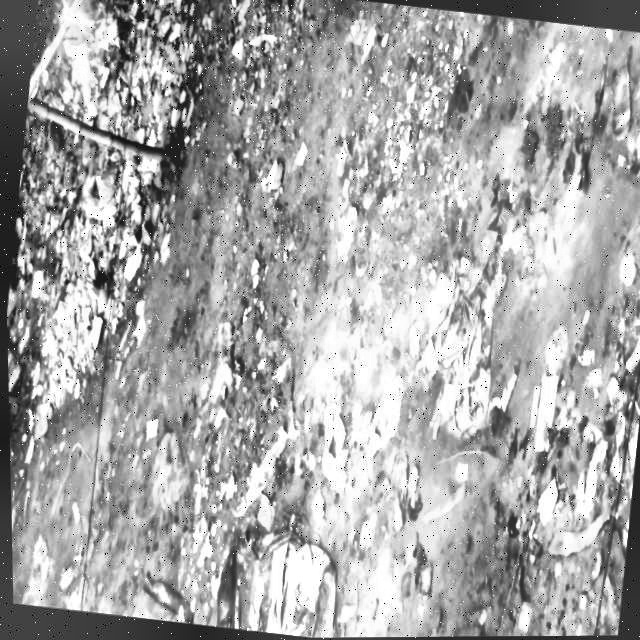Fire: (43, 0, 112, 100)
